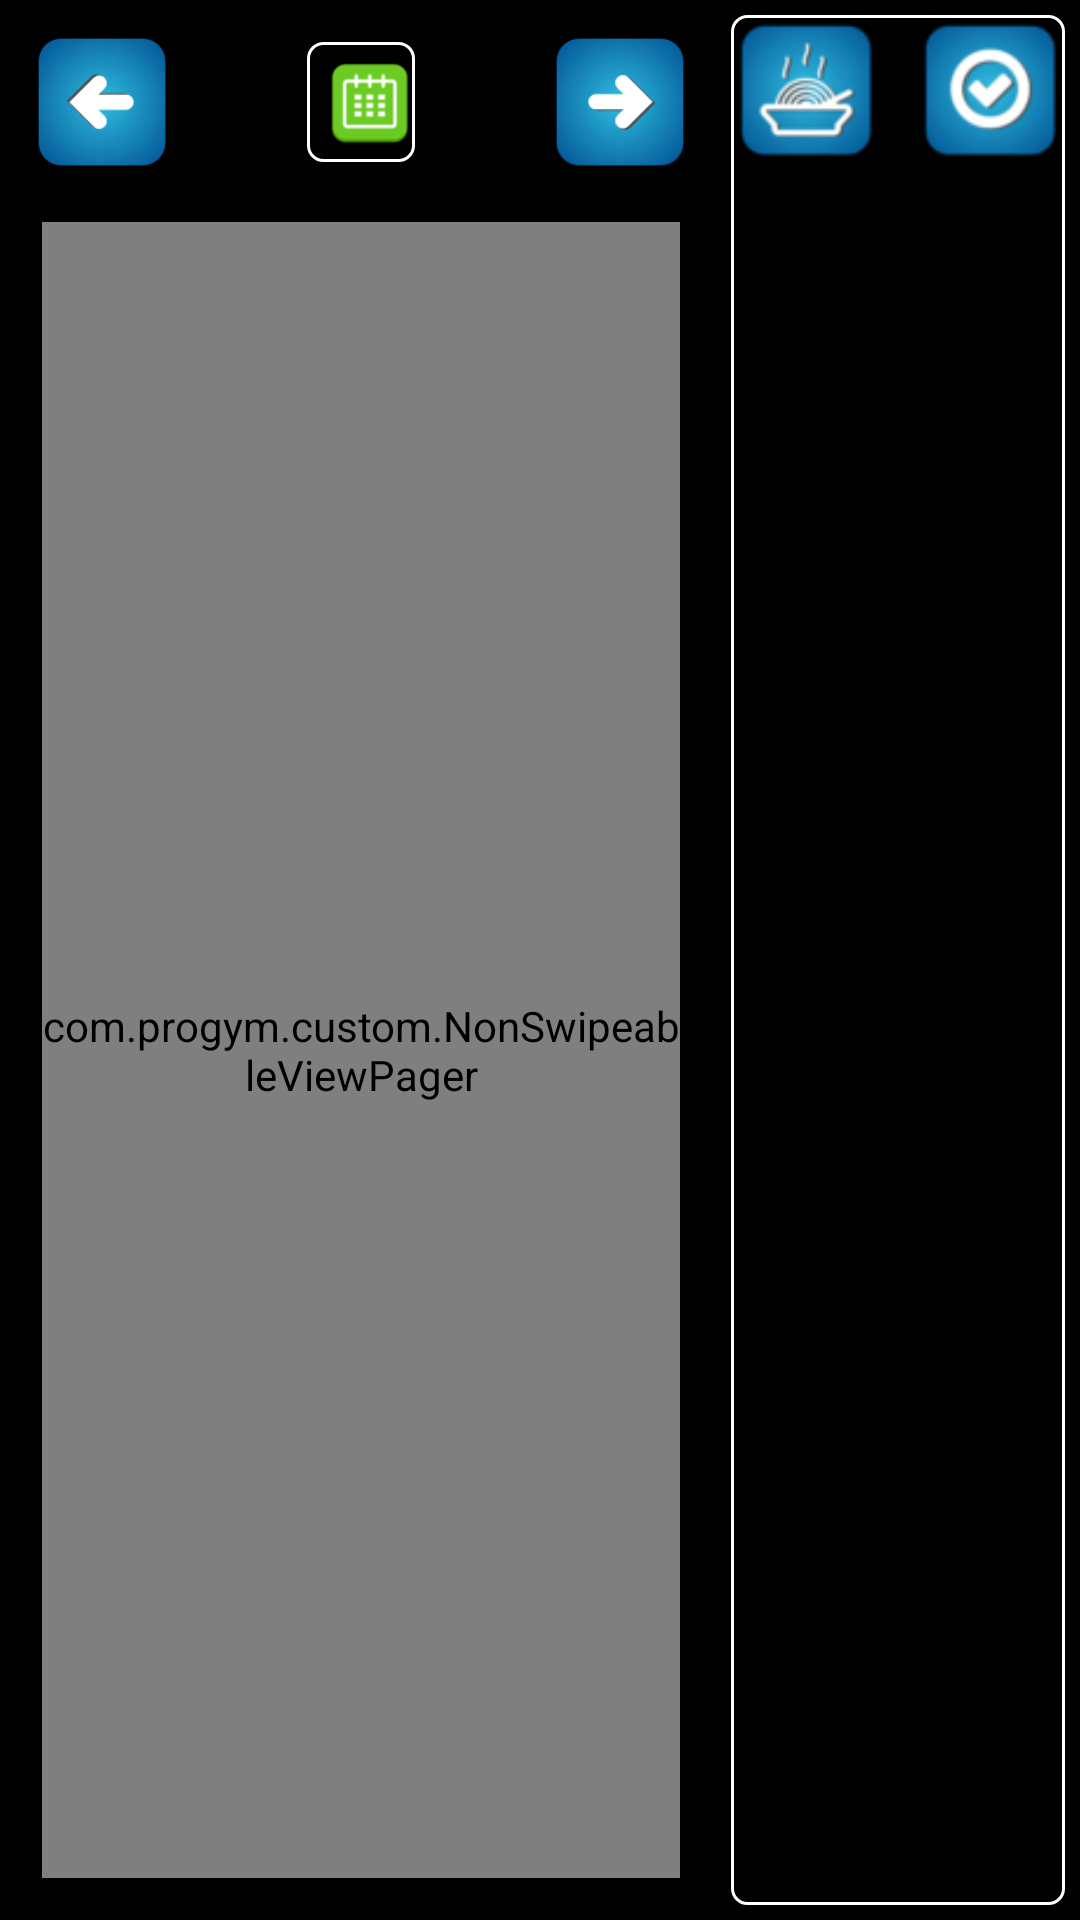

Icon bounding boxes for this 1080 x 1920 phone screenshot, format (x1, y1, x2, y2):
calendar: (332, 64, 408, 143)
left: (38, 38, 166, 166)
right: (556, 38, 684, 166)
save: (924, 24, 1056, 156)
